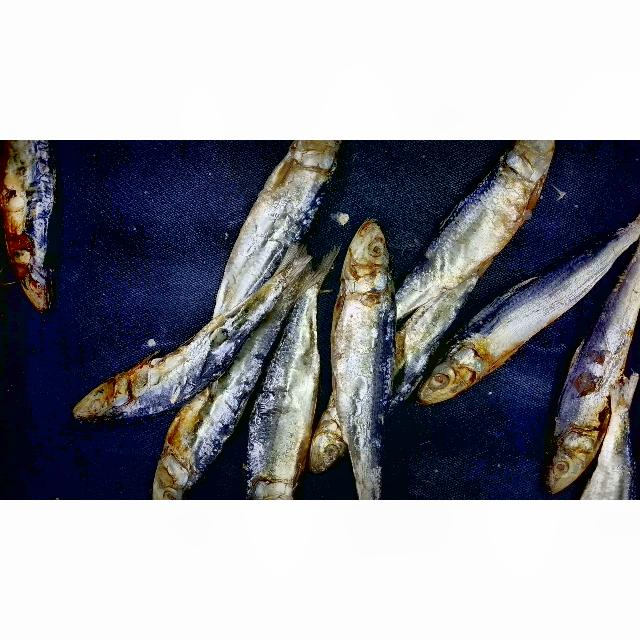Grade_B_Body: (425, 168, 535, 277), (131, 313, 240, 423), (479, 263, 605, 351), (228, 155, 328, 263), (243, 338, 320, 475), (327, 304, 396, 453), (0, 140, 58, 242)
Grade_B_Head: (412, 336, 488, 412), (339, 220, 396, 296), (0, 244, 67, 303), (541, 427, 596, 496), (142, 440, 195, 500)
Grade_B_Tail: (263, 261, 338, 380), (222, 245, 315, 324), (588, 377, 640, 500)
